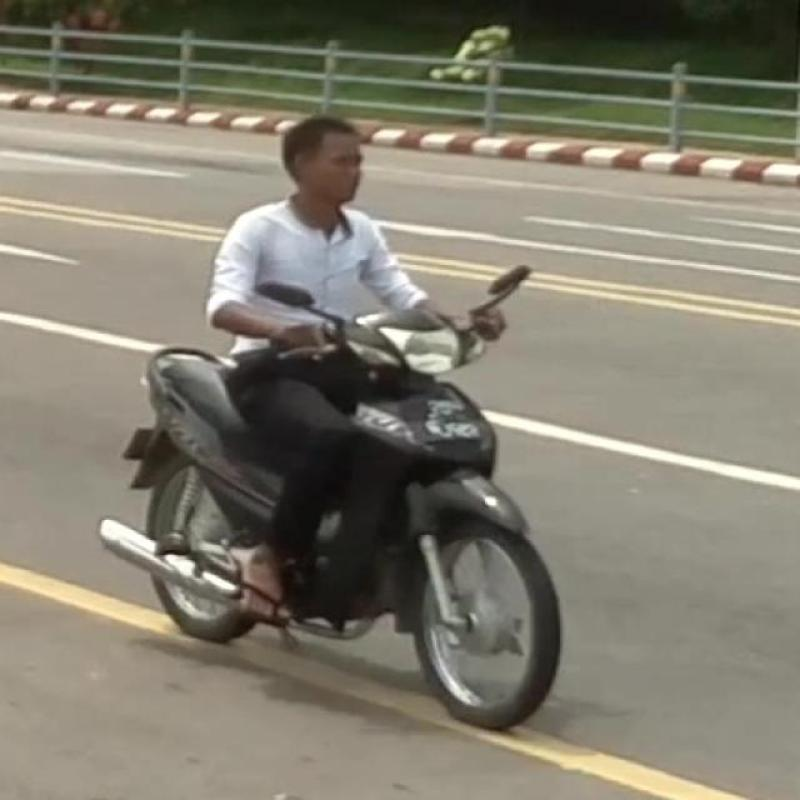nohelmet: (238, 84, 364, 245)
